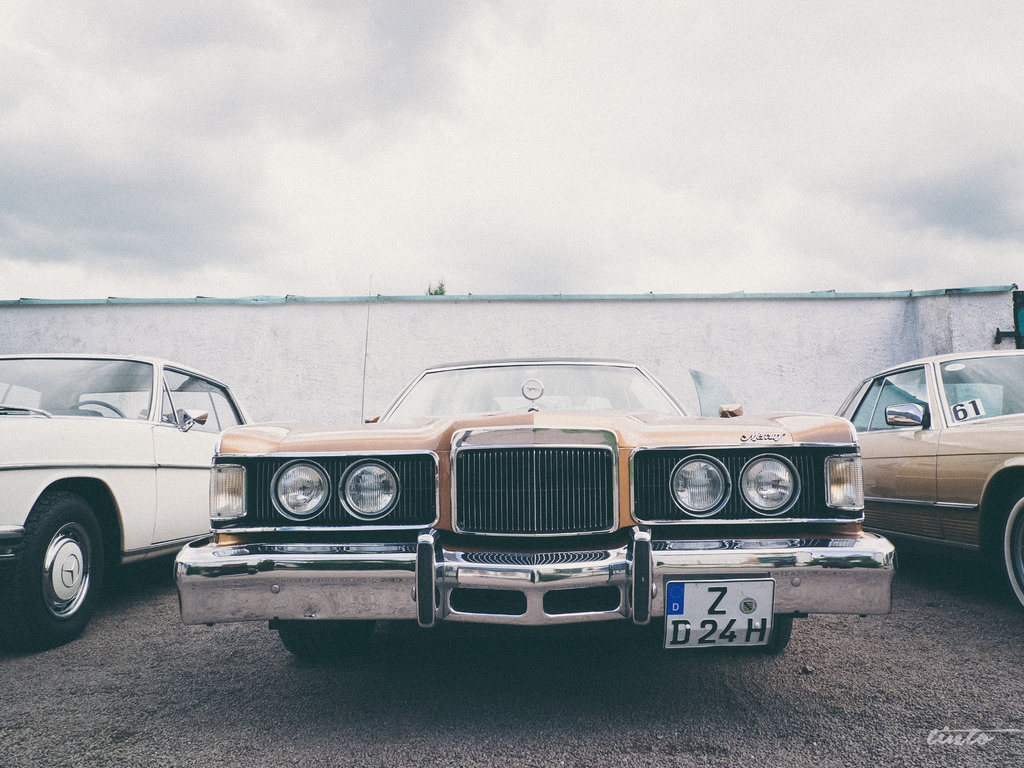Car: (138, 377, 915, 657), (0, 351, 254, 638), (837, 350, 1023, 618)
